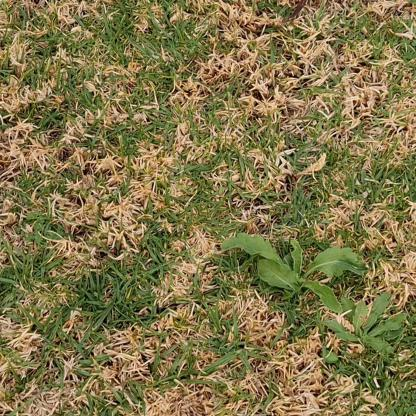Weeds: (220, 233, 368, 314), (324, 291, 411, 361)
